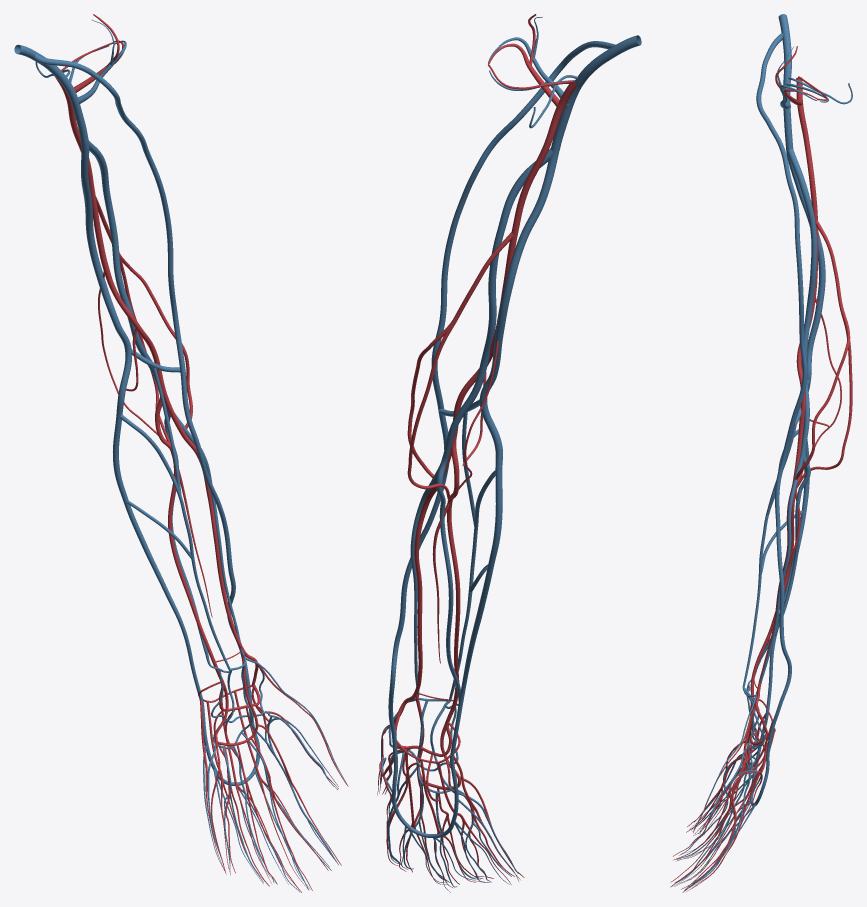
File: detail-circulatory-left-upper-limb.glb
The picture shows the model from 3 angles, left to right: view 1: azimuth 30°, elevation 25°; view 2: azimuth 150°, elevation 25°; view 3: azimuth 270°, elevation 25°; orthographic projection. The views are drawn at different scales.
Visible parts, largest first — view 1: za-2d55df63bc70d8d8, za-43301e1a4ebf8c34, za-ff341f0b7b6d1a0b, za-58df381013697f09, za-32b3f206ae5cc00a, za-af112a1f3d596fa2, za-1b86c9c2c752e261, za-143d3323e53aadda, za-0b7259266ace3624, za-6fc05fab2cd6527c, za-235dcf010807686e, za-8227fc90d6ea49e5 (+4 smaller); view 2: za-43301e1a4ebf8c34, za-2d55df63bc70d8d8, za-af112a1f3d596fa2, za-32b3f206ae5cc00a, za-ff341f0b7b6d1a0b, za-8227fc90d6ea49e5, za-235dcf010807686e, za-0b7259266ace3624, za-9e132c016a6bd9b2, za-58df381013697f09, za-143d3323e53aadda, za-1b86c9c2c752e261 (+9 smaller); view 3: za-2d55df63bc70d8d8, za-43301e1a4ebf8c34, za-af112a1f3d596fa2, za-58df381013697f09, za-ff341f0b7b6d1a0b, za-32b3f206ae5cc00a, za-1b86c9c2c752e261, za-8227fc90d6ea49e5, za-6fc05fab2cd6527c, za-143d3323e53aadda, za-dfd7735f3f7fa3c0, za-9e132c016a6bd9b2 (+6 smaller).
Boxes of the visible parts, x1,y1,x2,y2 form: za-2d55df63bc70d8d8: (33, 53, 252, 703); za-43301e1a4ebf8c34: (81, 141, 202, 699); za-ff341f0b7b6d1a0b: (207, 711, 338, 891); za-58df381013697f09: (211, 661, 348, 892); za-32b3f206ae5cc00a: (54, 76, 164, 387); za-af112a1f3d596fa2: (88, 141, 156, 383); za-1b86c9c2c752e261: (203, 663, 347, 889); za-143d3323e53aadda: (119, 415, 245, 673); za-0b7259266ace3624: (163, 386, 258, 685); za-6fc05fab2cd6527c: (205, 719, 337, 889); za-235dcf010807686e: (155, 387, 223, 682); za-8227fc90d6ea49e5: (14, 44, 88, 143); za-43301e1a4ebf8c34: (450, 151, 559, 755); za-2d55df63bc70d8d8: (388, 41, 615, 762); za-af112a1f3d596fa2: (443, 148, 552, 458); za-32b3f206ae5cc00a: (453, 81, 577, 436); za-ff341f0b7b6d1a0b: (384, 751, 518, 887); za-8227fc90d6ea49e5: (551, 35, 641, 151); za-235dcf010807686e: (446, 436, 460, 722); za-0b7259266ace3624: (394, 449, 451, 735); za-9e132c016a6bd9b2: (436, 457, 460, 708); za-58df381013697f09: (380, 706, 524, 884); za-143d3323e53aadda: (419, 470, 495, 706); za-1b86c9c2c752e261: (379, 718, 520, 892); za-2d55df63bc70d8d8: (756, 33, 807, 750); za-43301e1a4ebf8c34: (766, 149, 825, 712); za-af112a1f3d596fa2: (787, 149, 817, 449); za-58df381013697f09: (670, 706, 755, 892); za-ff341f0b7b6d1a0b: (672, 748, 755, 890); za-32b3f206ae5cc00a: (796, 77, 818, 429); za-1b86c9c2c752e261: (672, 706, 761, 887); za-8227fc90d6ea49e5: (778, 14, 793, 149); za-6fc05fab2cd6527c: (674, 759, 762, 891); za-143d3323e53aadda: (742, 429, 802, 697); za-dfd7735f3f7fa3c0: (752, 449, 805, 706); za-9e132c016a6bd9b2: (747, 449, 810, 691).
Bounding box in the file's own units: 0.2401 × 0.7003 × 0.1493.
